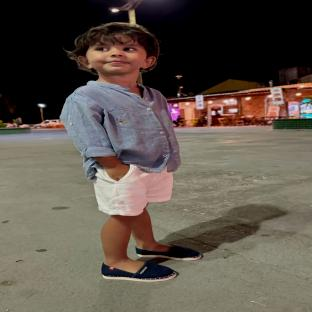Human: (60, 22, 202, 281)
